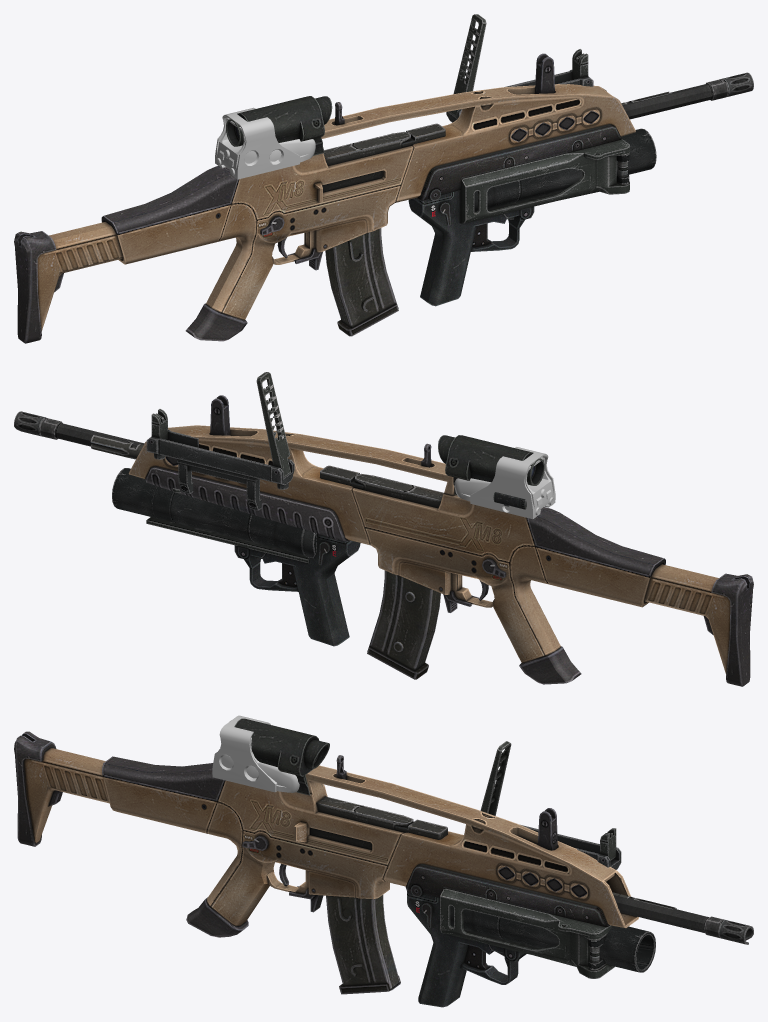
Rendered from AssaultRifle06.FBX.
3 views of the same model, one above another, from view 1: azimuth 30°, elevation 25°; view 2: azimuth 150°, elevation 25°; view 3: azimuth 330°, elevation 25° (orthographic).
Parts seen in each view (by area): view 1: AssaultRifle06_Body01, AssaultRifle06_Imp03, AssaultRifle06_Imp01, AssaultRifle06_Imp02, AssaultRifle06_Imp04; view 2: AssaultRifle06_Body01, AssaultRifle06_Imp03, AssaultRifle06_Body02, AssaultRifle06_Imp01, AssaultRifle06_Imp02, AssaultRifle06_Imp04, AssaultRifle06_Body03; view 3: AssaultRifle06_Body01, AssaultRifle06_Imp03, AssaultRifle06_Imp02, AssaultRifle06_Imp01, AssaultRifle06_Imp04.
Part boxes in pixels (bbox=[...]): AssaultRifle06_Body01: bbox=[14, 53, 635, 343]; AssaultRifle06_Imp03: bbox=[408, 14, 656, 306]; AssaultRifle06_Imp01: bbox=[215, 107, 315, 179]; AssaultRifle06_Imp02: bbox=[226, 96, 332, 155]; AssaultRifle06_Imp04: bbox=[622, 72, 753, 119]; AssaultRifle06_Body01: bbox=[128, 395, 753, 686]; AssaultRifle06_Imp03: bbox=[112, 372, 360, 646]; AssaultRifle06_Body02: bbox=[145, 466, 350, 541]; AssaultRifle06_Imp01: bbox=[454, 447, 555, 519]; AssaultRifle06_Imp02: bbox=[438, 435, 544, 509]; AssaultRifle06_Imp04: bbox=[14, 411, 144, 452]; AssaultRifle06_Body03: bbox=[90, 433, 143, 459]; AssaultRifle06_Body01: bbox=[14, 731, 638, 994]; AssaultRifle06_Imp03: bbox=[405, 741, 655, 1007]; AssaultRifle06_Imp02: bbox=[234, 718, 329, 795]; AssaultRifle06_Imp01: bbox=[212, 715, 299, 792]; AssaultRifle06_Imp04: bbox=[613, 895, 753, 944].
Bounding box in the file's own units: 0.9443 × 0.3375 × 0.0889.
